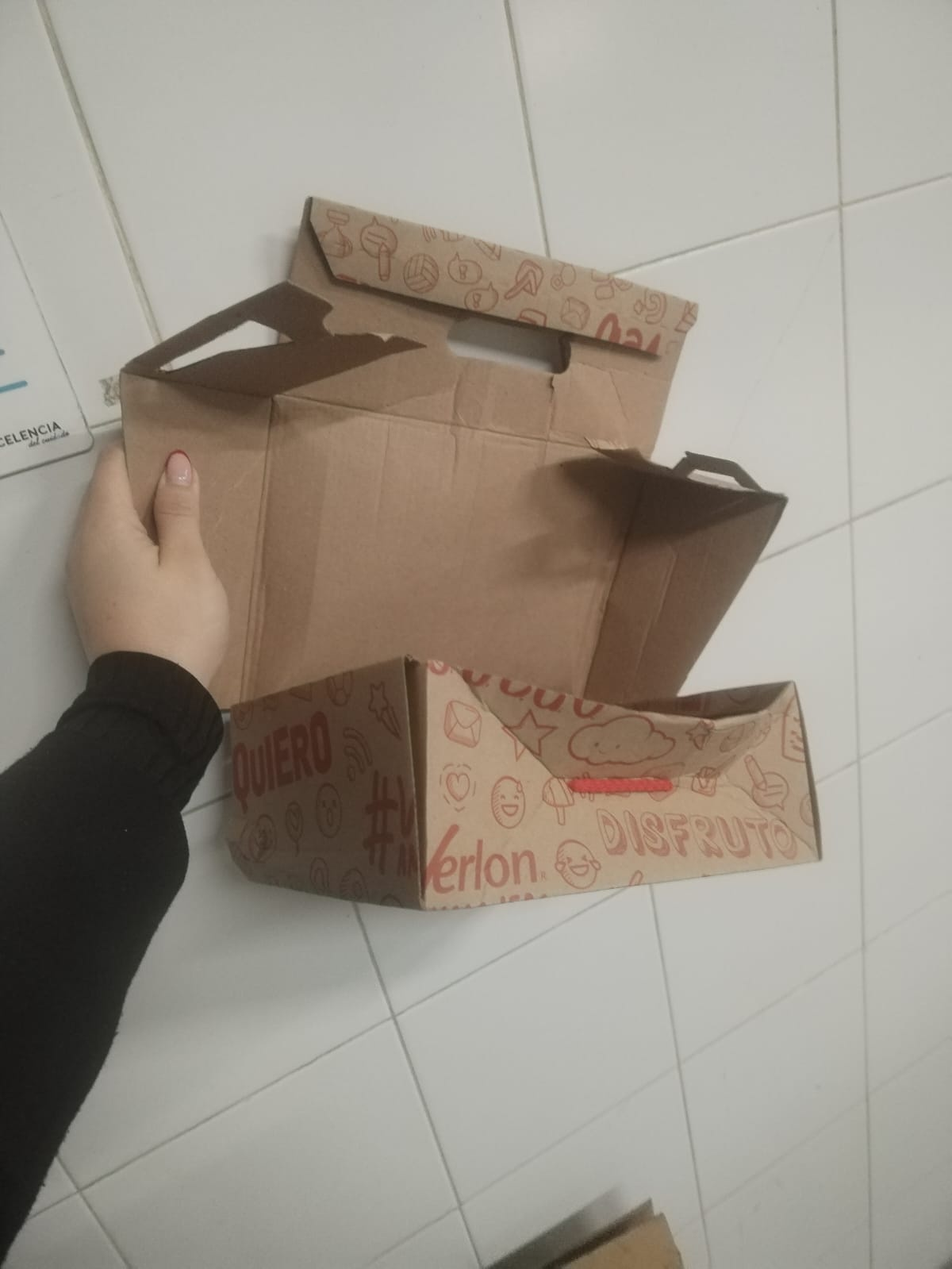Carton: (113, 193, 824, 908)
